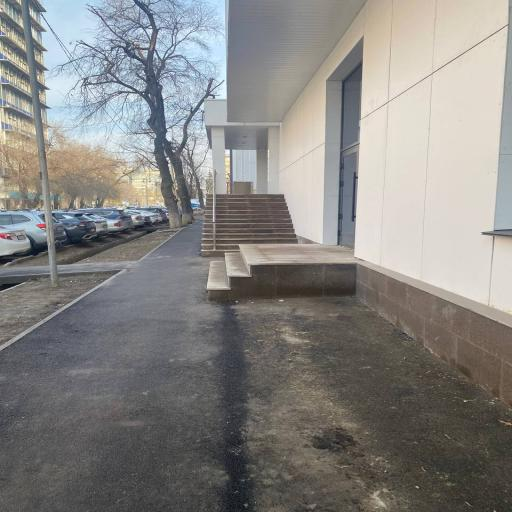construction_fence: (0, 276, 115, 351)
shelf: (0, 223, 511, 511)
sofa: (207, 244, 356, 300), (202, 194, 297, 255)
